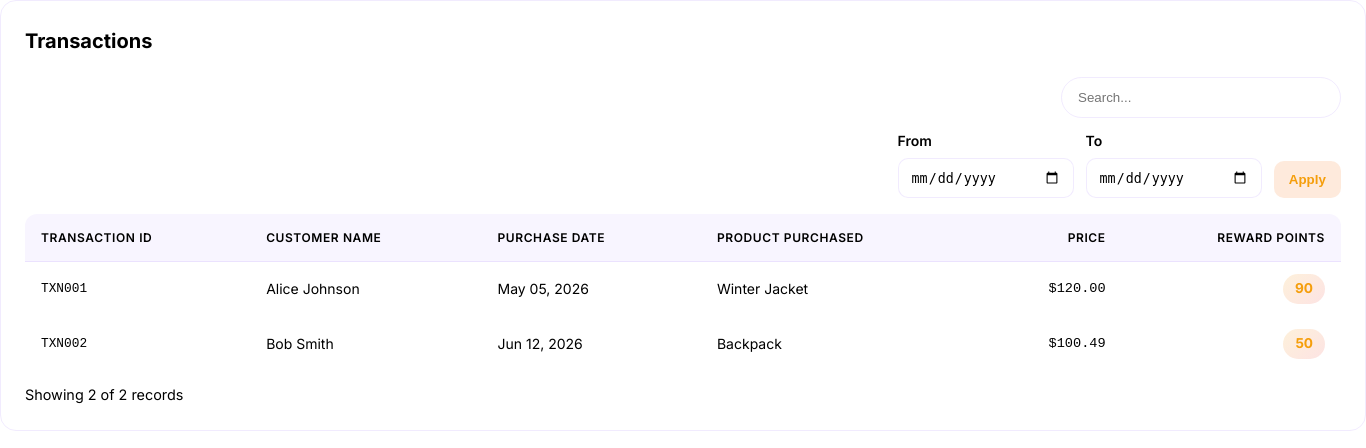
Test: TransactionsTable › filters transactions by the selected date range after clicking apply
Type "2026-05-01" into the date field named "from date" at (986, 178), box [898,158,1074,198]
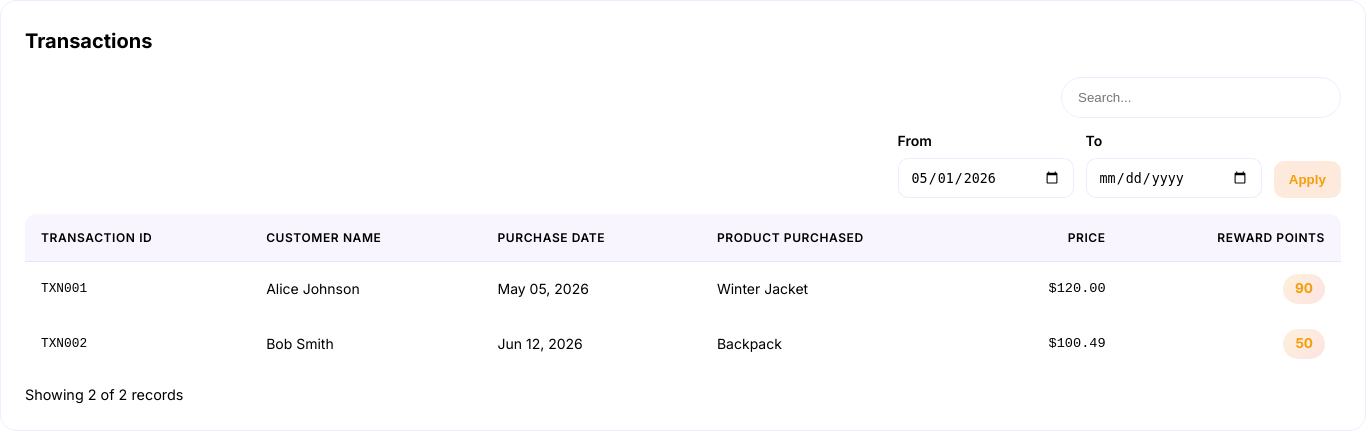
Type "2026-05-31" into the date field named "to date" at (1174, 178), box [1086,158,1262,198]
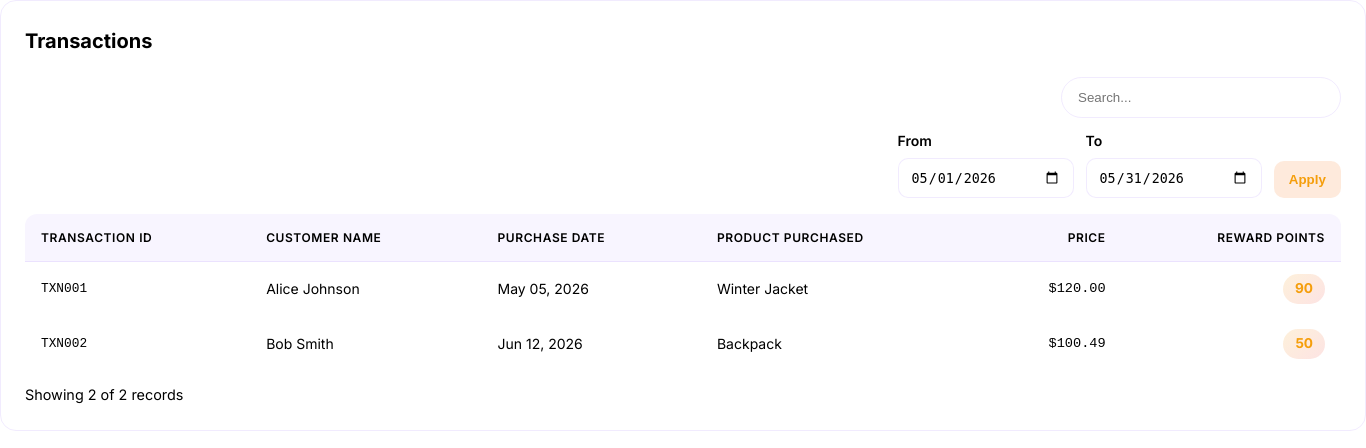
Click the button "Apply" at (1307, 179), box [1274,161,1341,198]
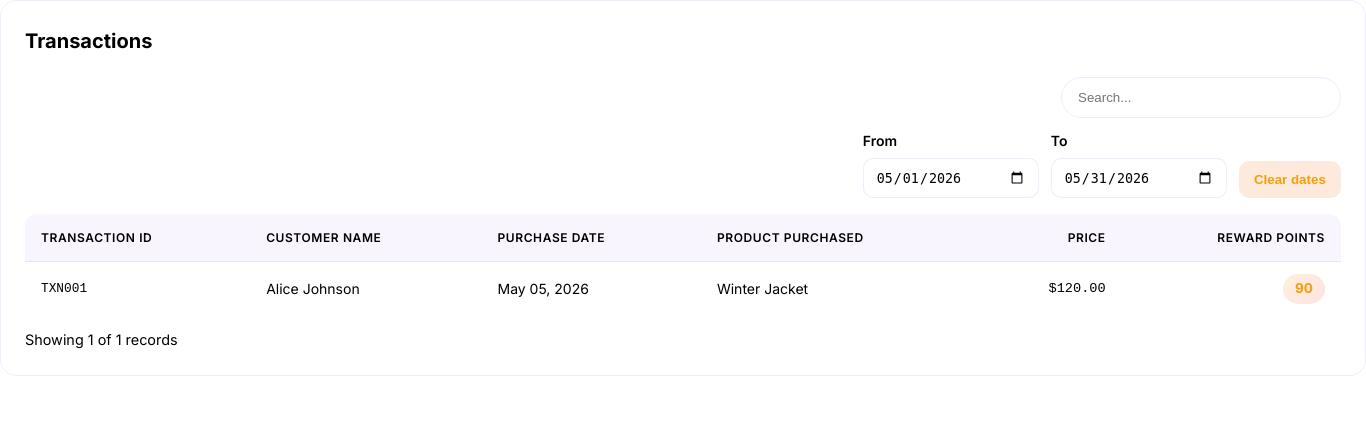
Check: the text "TXN001" is shown, box [25,262,250,316]
Check: the text "TXN002" is gone
